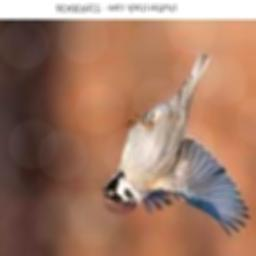Sparrow: (103, 56, 251, 238)
